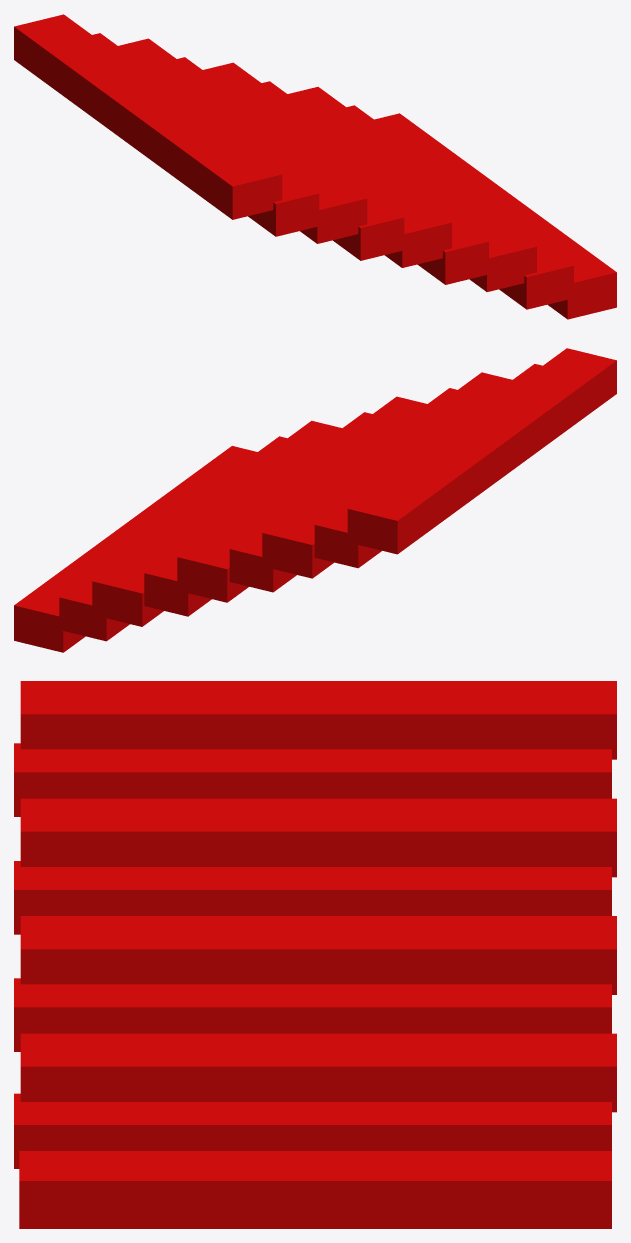
Rendered from StairsCollider.fbx.
The picture shows the model from 3 angles, top to bottom: view 1: azimuth 30°, elevation 25°; view 2: azimuth 150°, elevation 25°; view 3: azimuth 270°, elevation 25°; orthographic projection. The views are drawn at different scales.
Visible parts, largest first — view 1: StairsCollision; view 2: StairsCollision; view 3: StairsCollision.
Part boxes in pixels (x1,y1,x2,y2): StairsCollision: (14, 14, 616, 319); StairsCollision: (14, 348, 616, 652); StairsCollision: (14, 681, 616, 1228).
Size of the model in its own units: 404 by 216 by 403.
